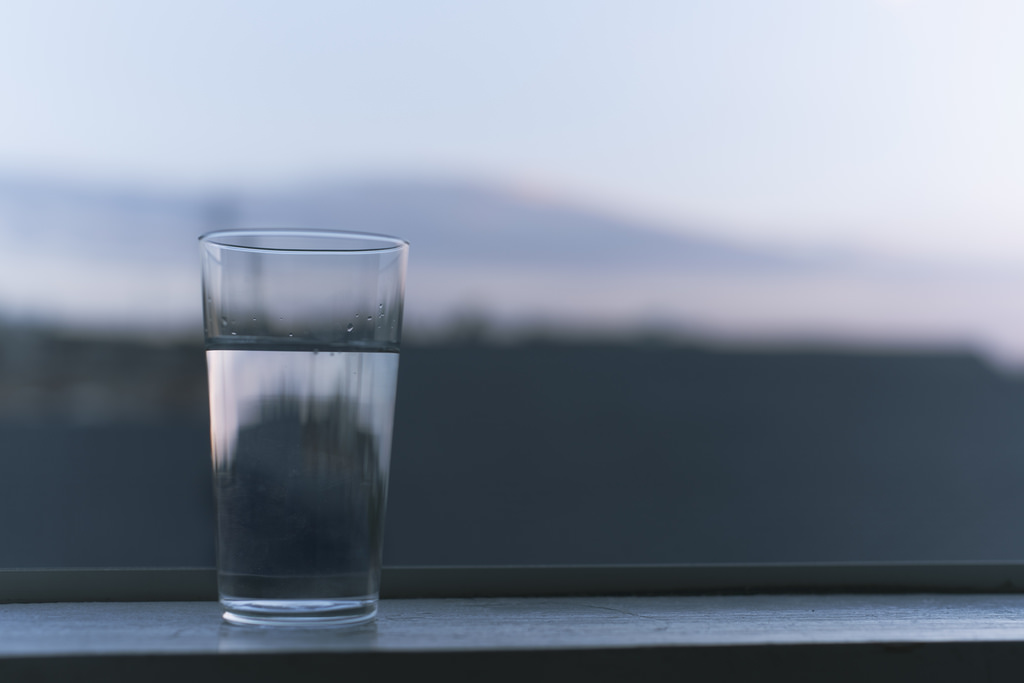glass of water: (196, 219, 396, 634)
